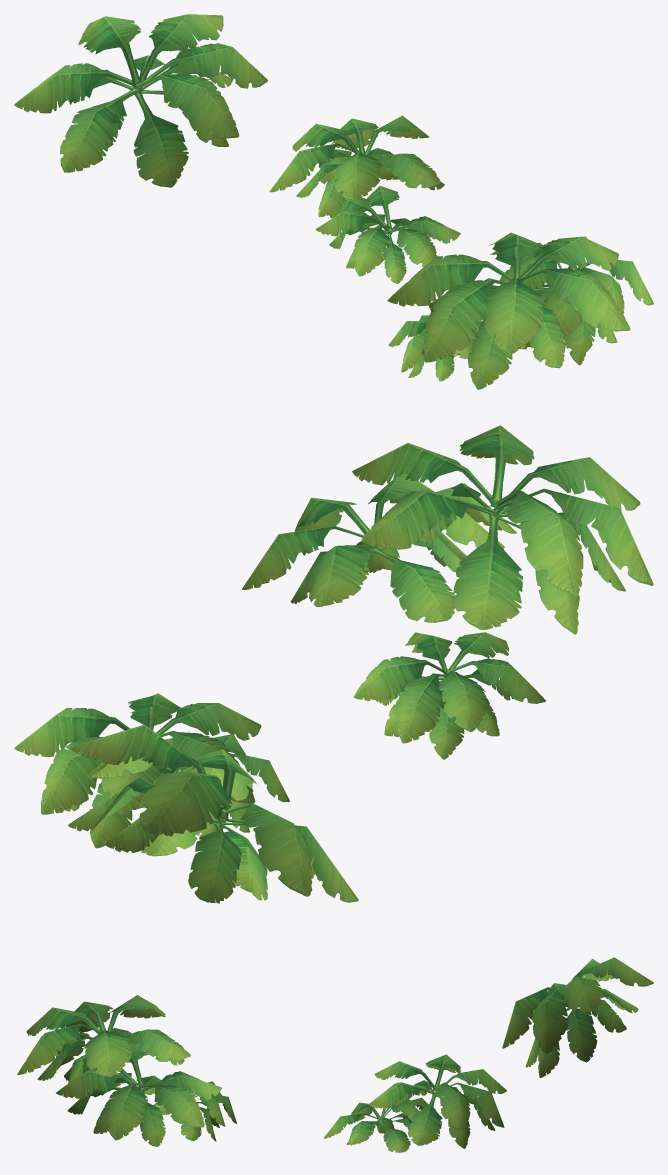
Rendered from Area_01_2.fbx.
3 renders of one model, top to bottom at view 1: azimuth 30°, elevation 25°; view 2: azimuth 150°, elevation 25°; view 3: azimuth 270°, elevation 25°, orthographic. The views are drawn at different scales.
Parts seen in each view (by area): view 1: Area_01_2; view 2: Area_01_2; view 3: Area_01_2.
Boxes of the visible parts, x1,y1,x2,y2 form: Area_01_2: [14, 14, 653, 389]; Area_01_2: [14, 425, 653, 903]; Area_01_2: [17, 957, 653, 1152].
Size of the model in its own units: 2474 by 1429 by 5304.
Materials: 1 (1 with a texture image).
